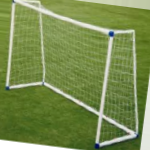goals: (6, 1, 140, 148)
